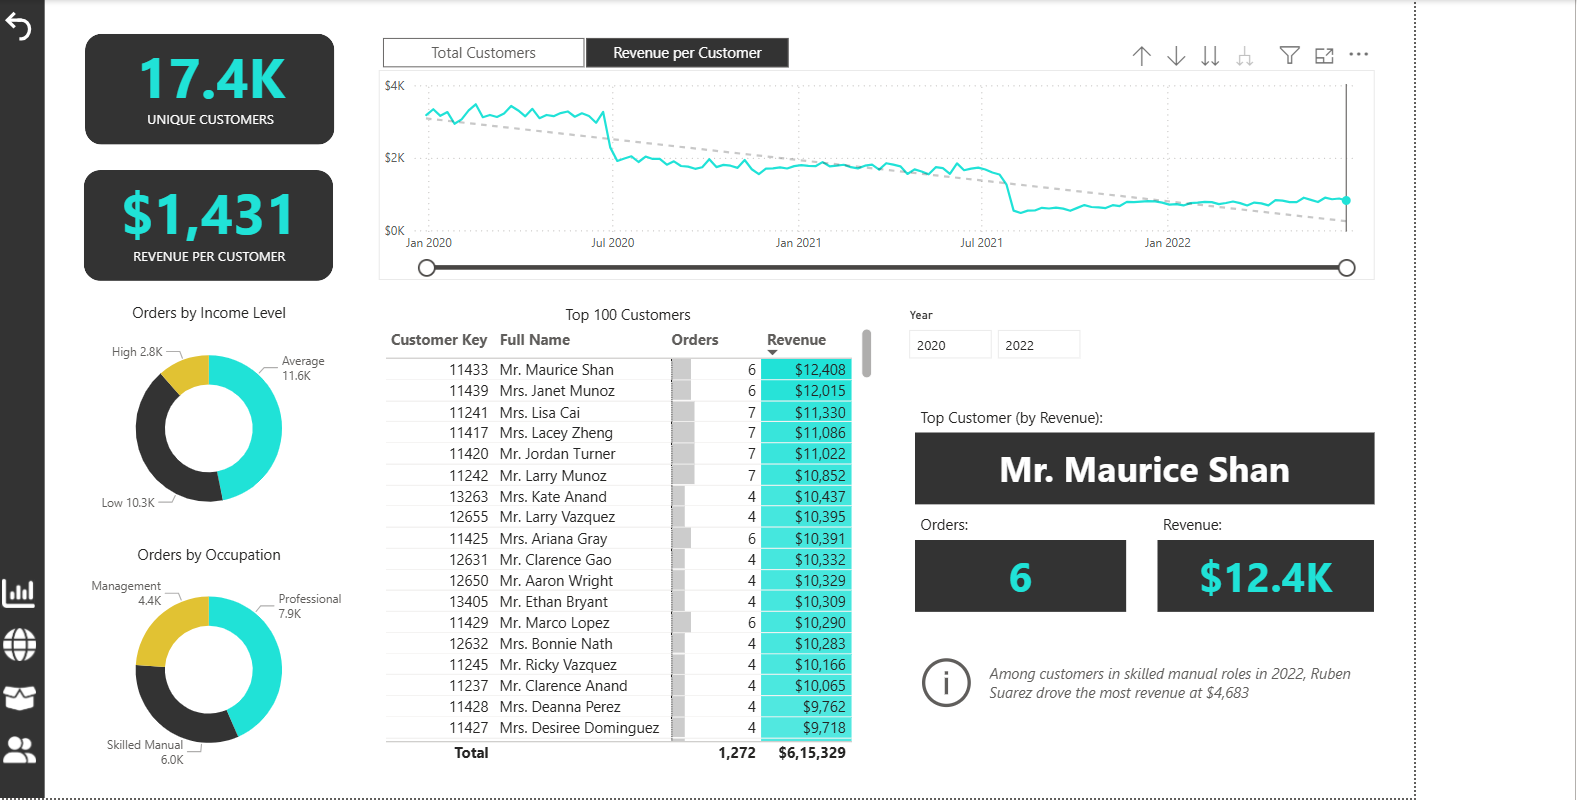

The dashboard page shown, as its layout file describes it:
{"tool":"powerbi","page":{"name":"Customer Detail","canvas":[1280,720],"ordinal":3},"visuals":[{"type":"shape","box":[0,0,45,720],"z":0},{"type":"actionButton","box":[2.5,516.7,45.6,37.8],"z":0,"group":"g1"},{"type":"shape","box":[81.7,30,225,100],"z":1000},{"type":"actionButton","box":[3.3,563.4,45.6,37.8],"z":1000,"group":"g1"},{"type":"actionButton","box":[3.3,611.1,45.6,37.8],"z":2000,"group":"g1"},{"type":"shape","box":[80,152.7,225,100],"z":2000},{"type":"card","fields":{"Values":["Measure Table.Total Customers"]},"box":[66.7,0,256.2,150],"z":3000},{"type":"actionButton","box":[3.3,657.8,45.6,37.8],"z":3000,"group":"g1"},{"type":"card","fields":{"Values":["Measure Table.Average Revenue per Customer"]},"box":[65,122.7,256.2,150],"z":4000},{"type":"lineChart","fields":{"Y":["Measure Table.Average Revenue per Customer"],"Category":["Calendar Lookup.Date Hierarchy.Year","Calendar Lookup.Date Hierarchy.Start of Month","Calendar Lookup.Date Hierarchy.Start of Week","Calendar Lookup.Date Hierarchy.Date"]},"box":[345.9,63.3,898.6,188.8],"z":5000},{"type":"donutChart","title":"Orders by Income Level","fields":{"Category":["Customer Lookup.Income Level"],"Y":["Measure Table.Total Orders"]},"box":[63.8,272.5,257.5,210],"z":6000},{"type":"donutChart","title":"Orders by Occupation","fields":{"Y":["Measure Table.Total Orders"],"Category":["Customer Lookup.Occupation"]},"box":[63.8,490,257.5,210],"z":7000},{"type":"tableEx","title":"Top 100 Customers","fields":{"Values":["Customer Lookup.CustomerKey","Customer Lookup.Full Name","Measure Table.Total Orders","Measure Table.Total Revenue"]},"box":[346,273.6,449.4,418.4],"z":8000},{"type":"card","fields":{"Values":["Customer Lookup.Full Name"]},"box":[829.6,390.1,414.5,65.1],"z":9000},{"type":"card","fields":{"Values":["Measure Table.Total Orders"]},"box":[829.6,487,190.7,65.1],"z":10000},{"type":"card","fields":{"Values":["Measure Table.Total Revenue"]},"box":[1048.7,487,195.4,65.1],"z":11000},{"type":"textbox","box":[829.6,361.7,190.7,37.9],"z":12000},{"type":"textbox","box":[829.6,458.4,190.7,37.9],"z":13000},{"type":"textbox","box":[1048.7,458.4,190.7,37.9],"z":14000},{"type":"slicer","fields":{"Values":["Calendar Lookup.Year"]},"box":[811.6,272.4,432.9,80.3],"z":15000},{"type":"actionButton","box":[830,586.7,410,56.7],"z":16000},{"type":"actionButton","box":[3.3,5.6,35.6,35.6],"z":17000},{"type":"group","id":"g1","title":"Navigation Buttons","box":[2.5,516.7,46.4,178.9],"z":18000},{"type":"slicer","fields":{"Values":["Customer Metric Selection.Customer Metric Selection"]},"box":[323.3,27.1,415.9,36.2],"z":19000}]}

Visuals, with their boxes on the page's 1280x720 design canvas (x1, y1, x2, y2). These are canvas units, not pixel positions in the 1577x800 screenshot, which may show the page scaled, cropped or inside an application window:
shape: x1=0, y1=0, x2=45, y2=720
actionButton: x1=2, y1=517, x2=48, y2=554
shape: x1=82, y1=30, x2=307, y2=130
actionButton: x1=3, y1=563, x2=49, y2=601
actionButton: x1=3, y1=611, x2=49, y2=649
shape: x1=80, y1=153, x2=305, y2=253
card - Measure Table.Total Customers: x1=67, y1=0, x2=323, y2=150
actionButton: x1=3, y1=658, x2=49, y2=696
card - Measure Table.Average Revenue per Customer: x1=65, y1=123, x2=321, y2=273
lineChart - Measure Table.Average Revenue per Customer x Calendar Lookup.Date Hierarchy.Year: x1=346, y1=63, x2=1244, y2=252
"Orders by Income Level" donutChart: x1=64, y1=272, x2=321, y2=482
"Orders by Occupation" donutChart: x1=64, y1=490, x2=321, y2=700
"Top 100 Customers" tableEx: x1=346, y1=274, x2=795, y2=692
card - Customer Lookup.Full Name: x1=830, y1=390, x2=1244, y2=455
card - Measure Table.Total Orders: x1=830, y1=487, x2=1020, y2=552
card - Measure Table.Total Revenue: x1=1049, y1=487, x2=1244, y2=552
textbox: x1=830, y1=362, x2=1020, y2=400
textbox: x1=830, y1=458, x2=1020, y2=496
textbox: x1=1049, y1=458, x2=1239, y2=496
slicer - Calendar Lookup.Year: x1=812, y1=272, x2=1244, y2=353
actionButton: x1=830, y1=587, x2=1240, y2=643
actionButton: x1=3, y1=6, x2=39, y2=41
"Navigation Buttons" group: x1=2, y1=517, x2=49, y2=696
slicer - Customer Metric Selection.Customer Metric Selection: x1=323, y1=27, x2=739, y2=63
